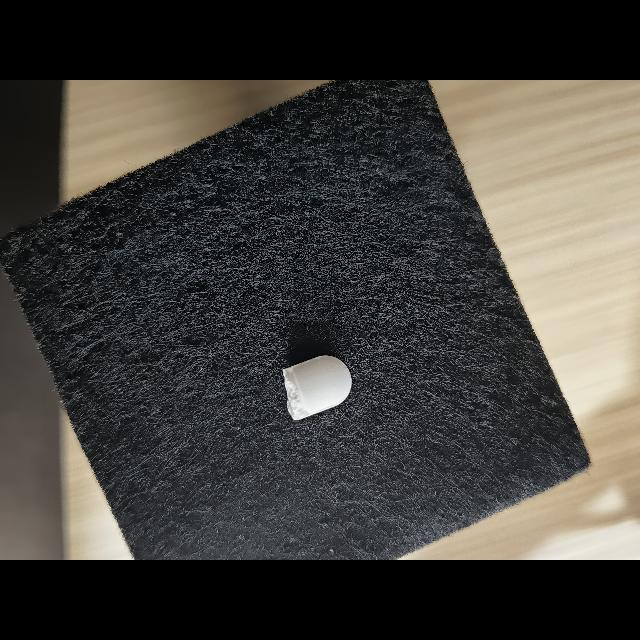Chipped Pill: (282, 355, 352, 420)
